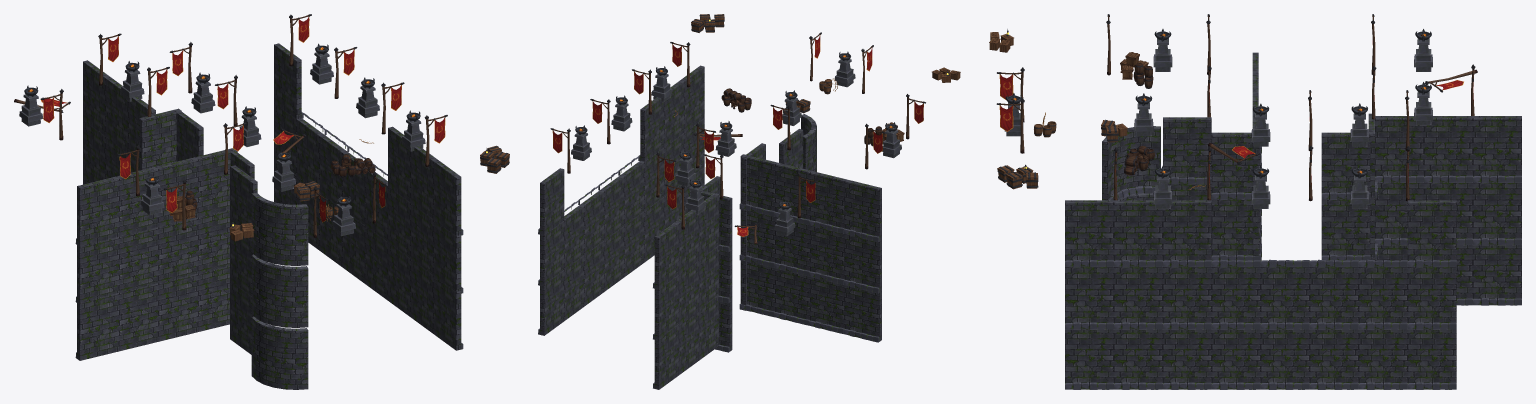
File: ExteriorWalls2.gltf
3 views of the same model, side by side, from view 1: azimuth 30°, elevation 25°; view 2: azimuth 150°, elevation 25°; view 3: azimuth 270°, elevation 25° (orthographic). The views are drawn at different scales.
Visible parts, largest first — view 1: ExteriorWalls2; view 2: ExteriorWalls2; view 3: ExteriorWalls2.
Boxes of the visible parts, <box> form: ExteriorWalls2: <box>14,14,509,389</box>; ExteriorWalls2: <box>538,14,960,389</box>; ExteriorWalls2: <box>989,14,1521,389</box>.
Size of the model in its own units: 32.29 by 23.3 by 43.52.
11 materials, 11 textured.
